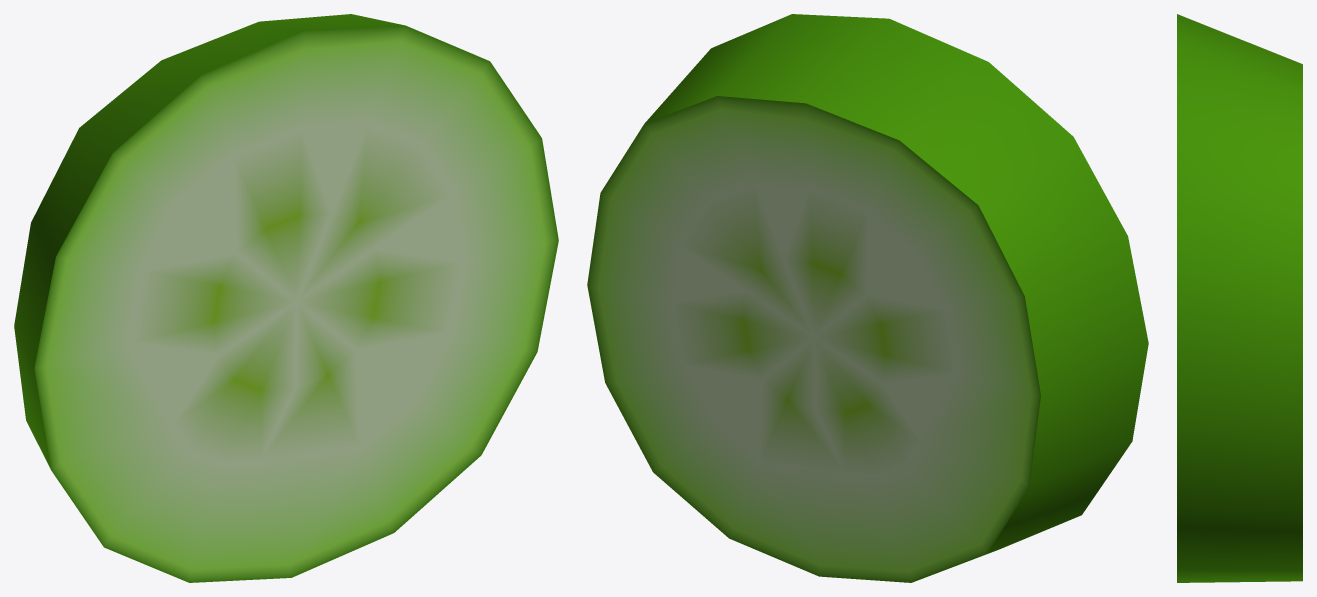
The model's file is Cucumber_Slice_20.fbx.
The picture shows the model from 3 angles, left to right: view 1: azimuth 30°, elevation 25°; view 2: azimuth 150°, elevation 25°; view 3: azimuth 270°, elevation 25°; orthographic projection. The views are drawn at different scales.
Visible parts, largest first — view 1: Cucumber_Slice_20; view 2: Cucumber_Slice_20; view 3: Cucumber_Slice_20.
Boxes of the visible parts, left/top/right/bottom form: Cucumber_Slice_20: left=14, top=14, right=558, bottom=582; Cucumber_Slice_20: left=587, top=14, right=1148, bottom=582; Cucumber_Slice_20: left=1177, top=14, right=1302, bottom=582.
Bounding box in the file's own units: 3.85 × 3.82 × 0.8408.
